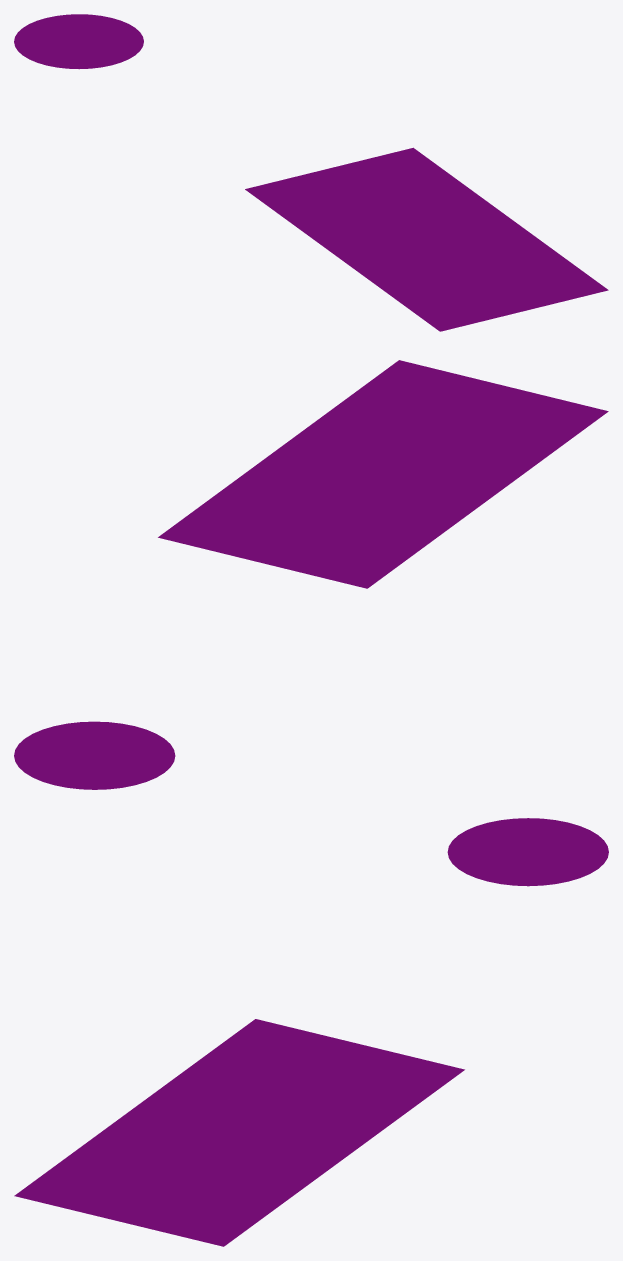
File: data172.glb
3 renders of one model, top to bottom at view 1: azimuth 30°, elevation 25°; view 2: azimuth 150°, elevation 25°; view 3: azimuth 330°, elevation 25°, orthographic. The views are drawn at different scales.
Size of the model in its own units: 0.7054 by 0.00158 by 2.59.
